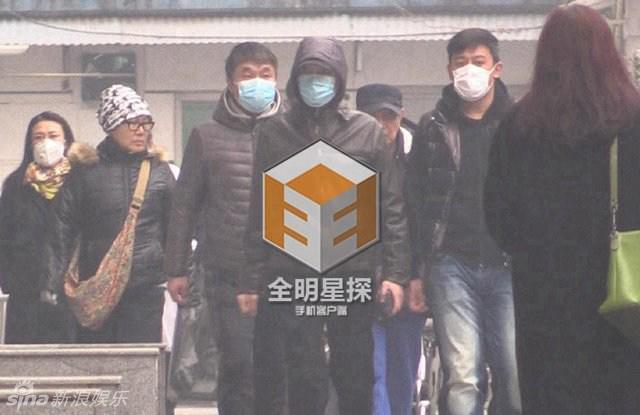NONE: (360, 106, 402, 148), (119, 118, 153, 152)
OK: (295, 61, 343, 109), (451, 53, 496, 98), (237, 65, 279, 107), (34, 129, 68, 163)
